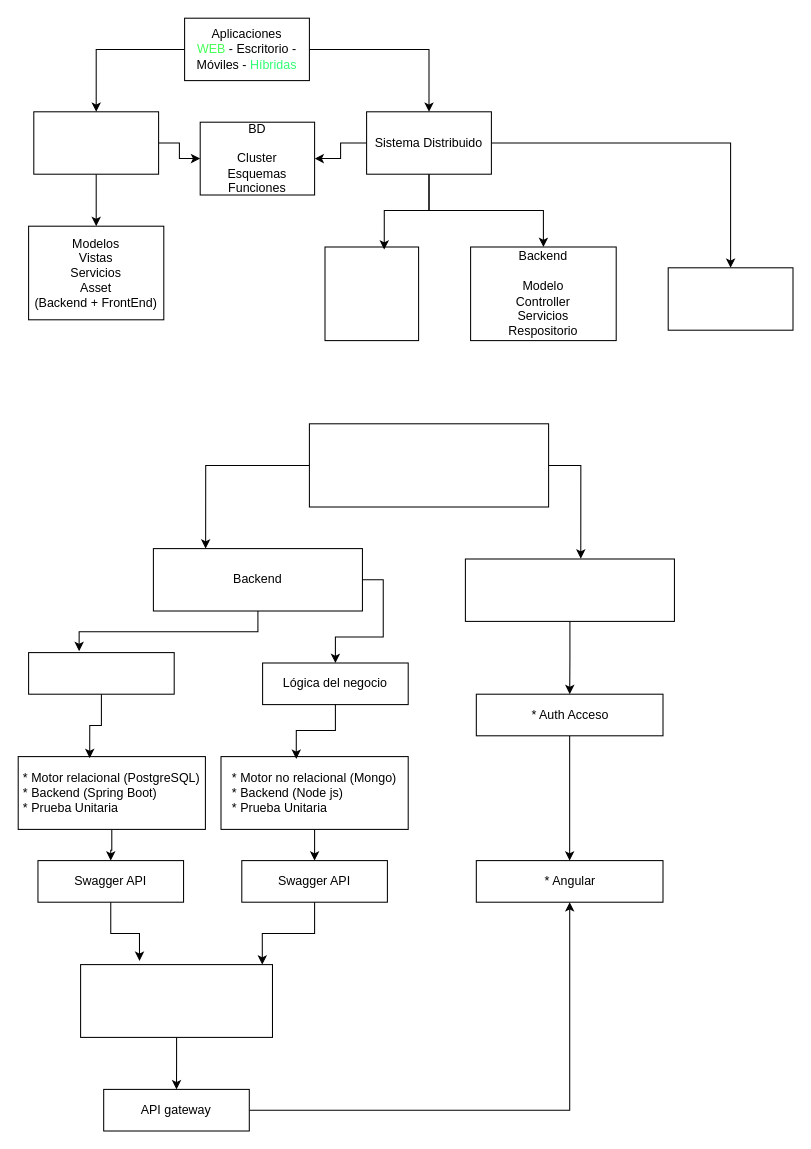
This 811x1149 diagram has some shape labels left out. The centre of each missing label's shape, as x and y in pixels:
"* git hub * Integración contiunua * jenkins * docker" goes at [176,1000].
"Frontend" goes at [569,589].
"FrontEnd Asset View Servicios" goes at [371,293].
"Monolítico" goes at [96,142].
"Otro" goes at [730,298].
"Seguridad" goes at [101,673].
"Stack de herramientas" goes at [428,465].
